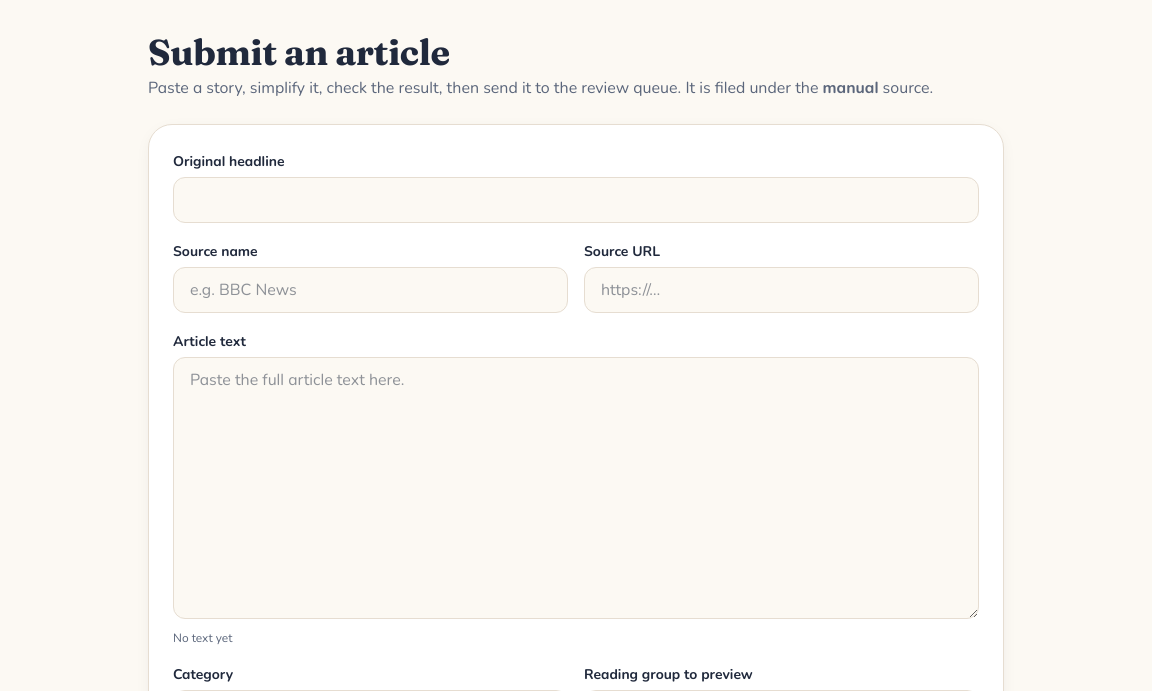
Simplify with AI — requirement 3 › populates the review output without saving anything
Step 1. Type "Council approves reef plan" into the field labelled "Original headline" → (576, 200), box x1=173 y1=177 x2=979 y2=223
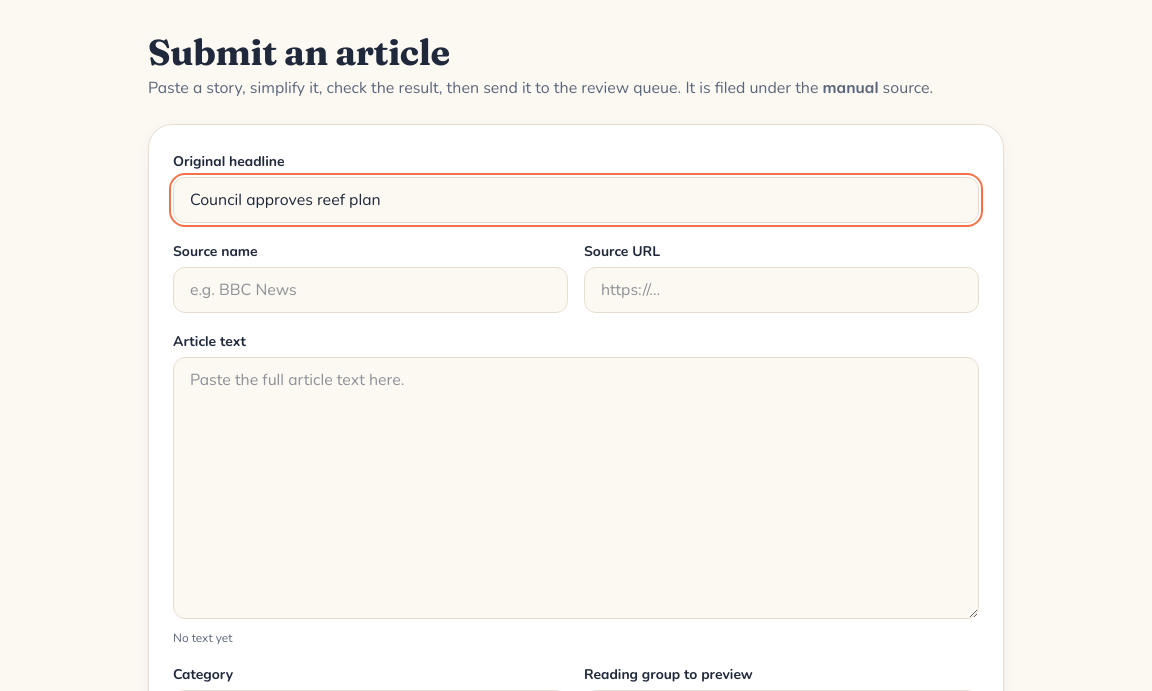
Step 2. Type "The Local Paper" into the field labelled "Source name" → (370, 290), box x1=173 y1=267 x2=568 y2=313
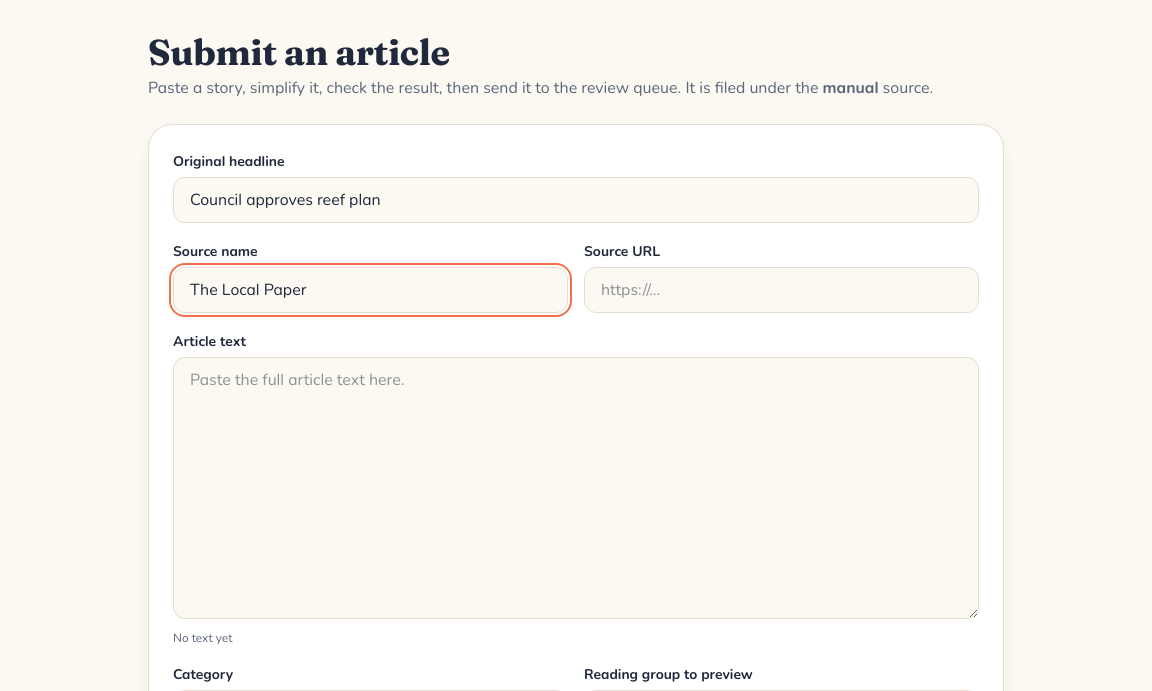
Step 3. Type "https://example.com/x" into the field labelled "Source URL" → (782, 290), box x1=584 y1=267 x2=979 y2=313
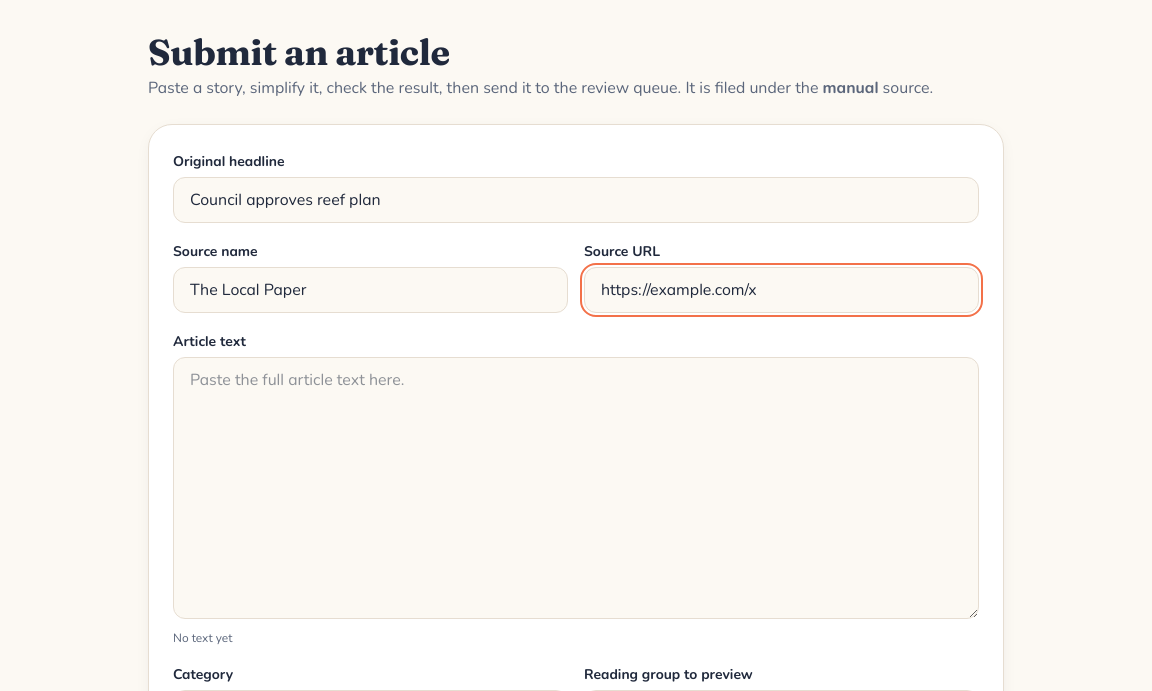
Step 4. Type "There was conflict and an attack near the reef." into the text box labelled "Article text" → (576, 488), box x1=173 y1=357 x2=979 y2=619
(page scrolled)
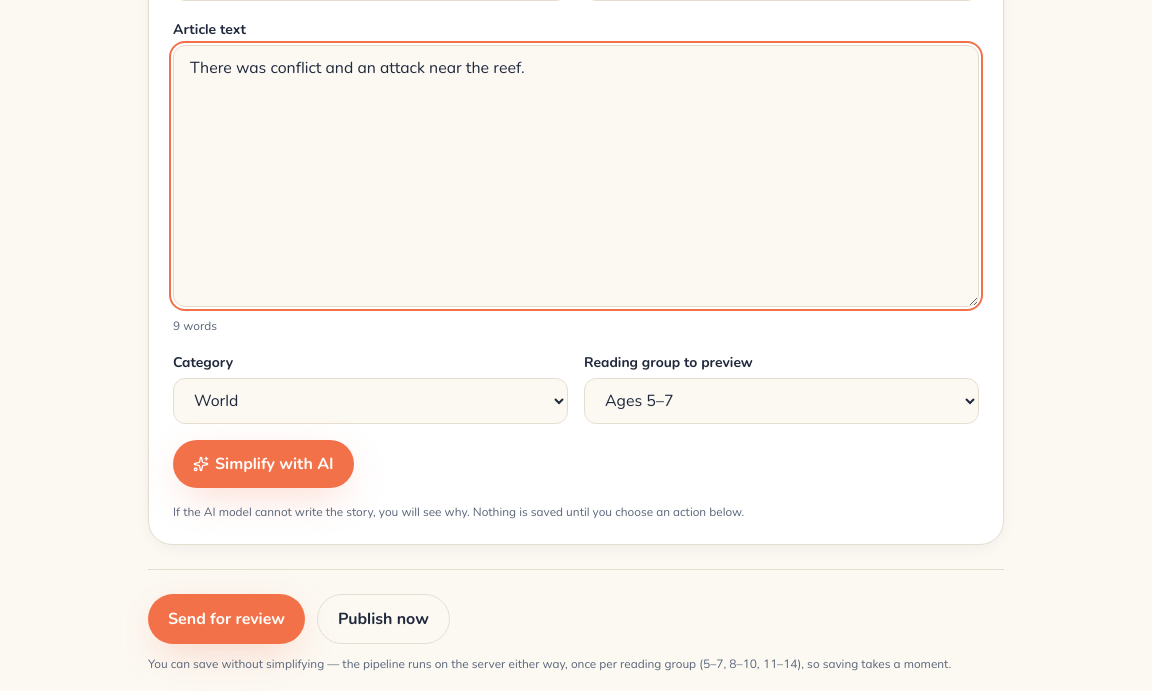
Step 5. Click the button "Simplify with AI" → (263, 464), box x1=173 y1=440 x2=354 y2=488
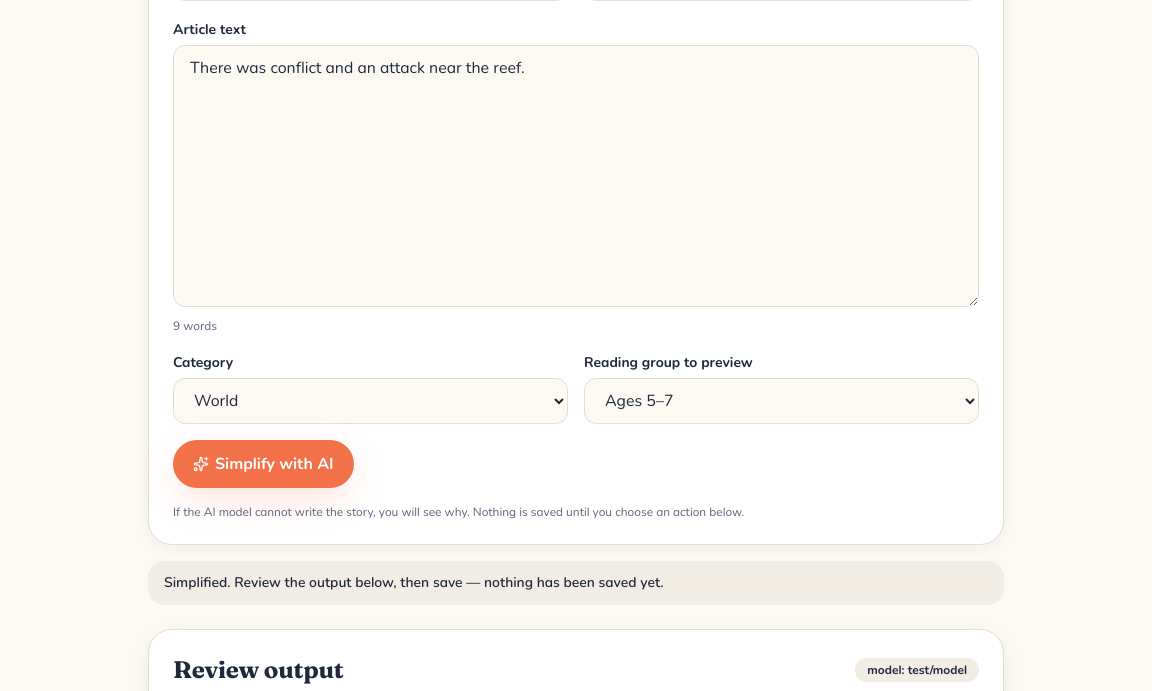
Expected: the text "Simplified. Review the output below, then save — nothing has been saved yet." is shown, x1=148 y1=561 x2=1004 y2=605
